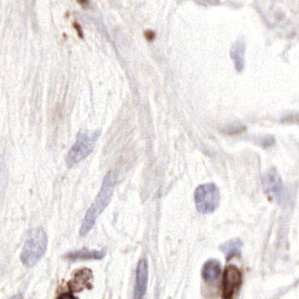Lymphocyte: (219, 262, 242, 299)
